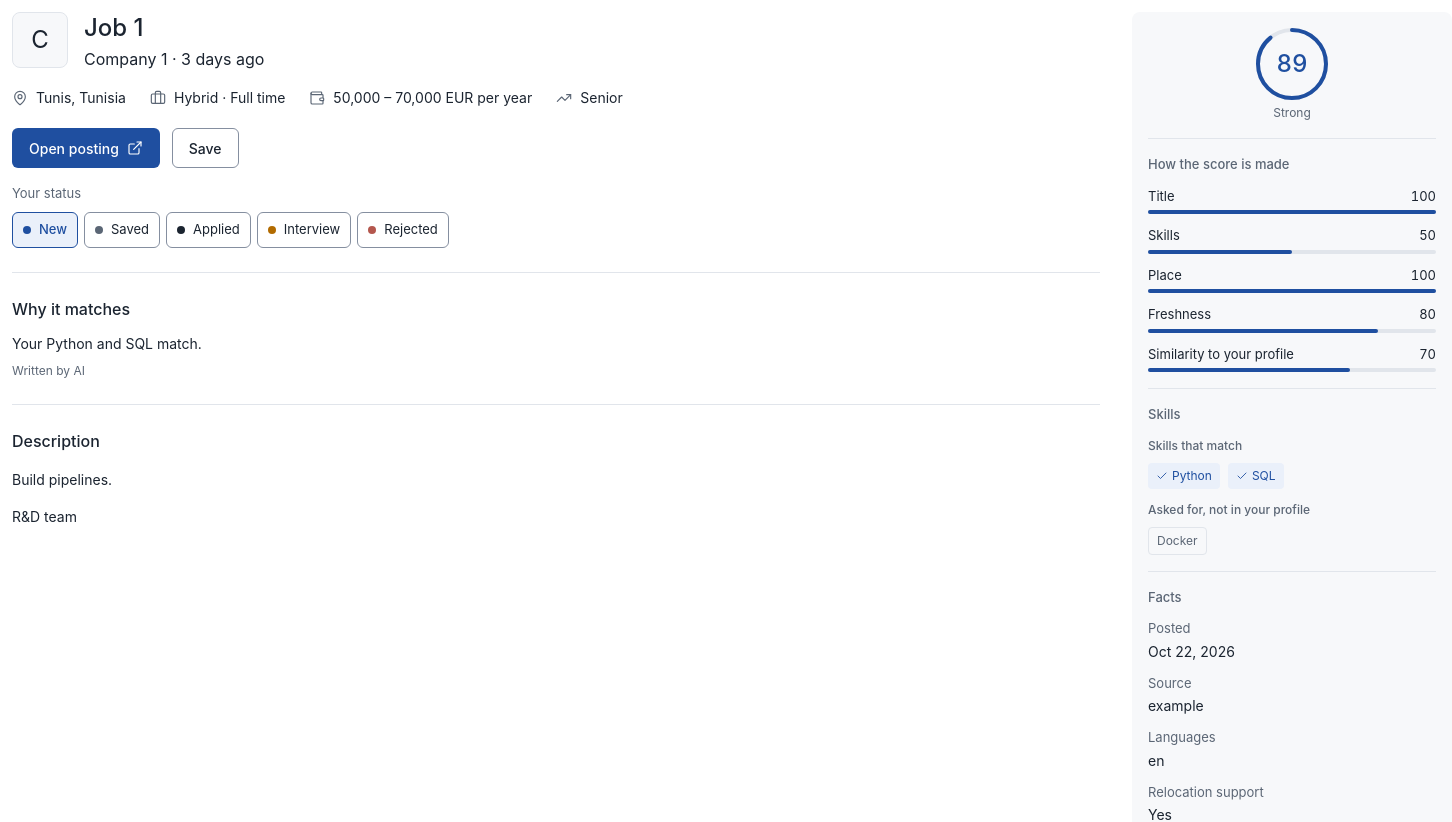
Test: job detail › changes the status at once and sends it, with a toast
This screenshot has width=1452, height=822.
Expected: the heading "Job 1" is shown, [84,13,144,42]
Click the button "Applied".
click(208, 230)  # box [166,212,251,248]
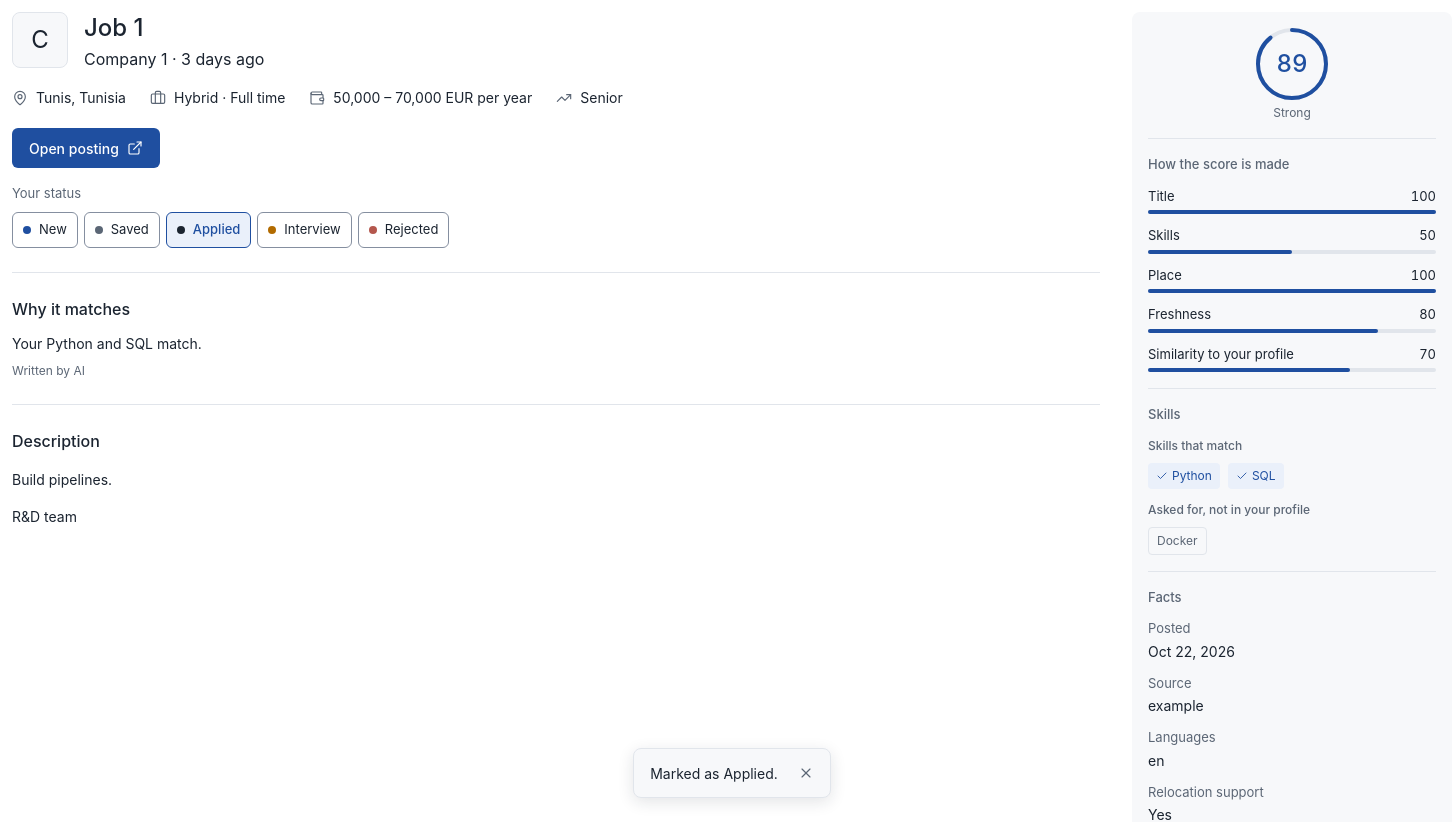
Expected: the text "Marked as Applied." is shown, [650,762,778,784]
